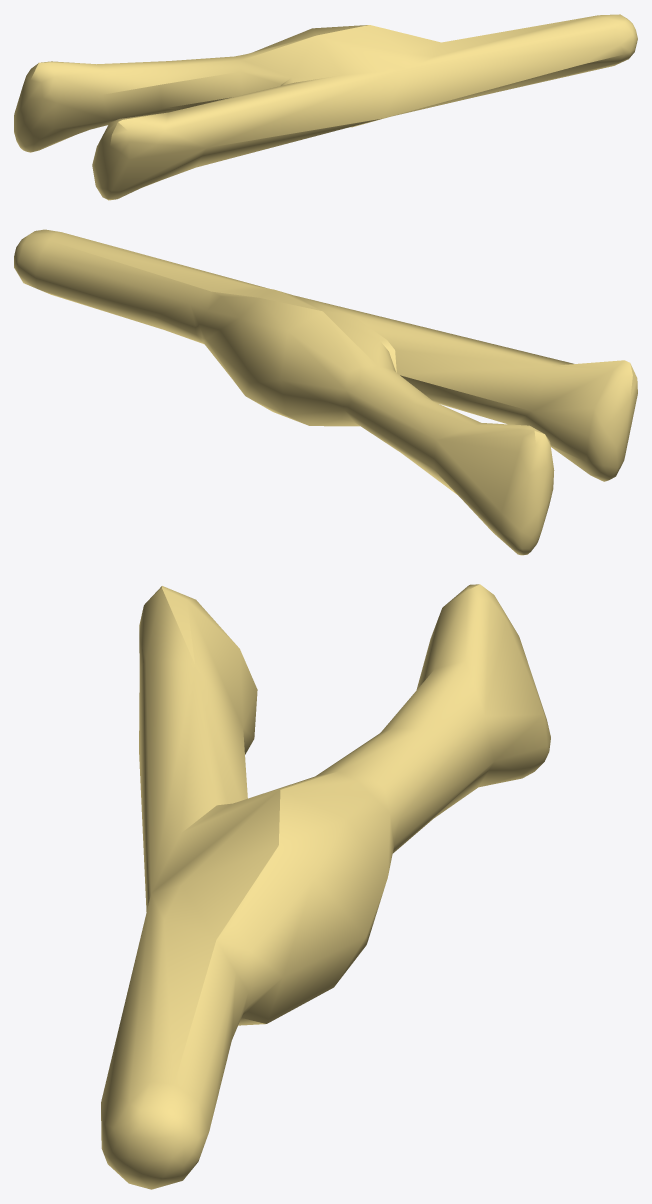
Rendered from fma7025_fj4248.glb.
3 views of the same model, one above another, from view 1: azimuth 30°, elevation 25°; view 2: azimuth 150°, elevation 25°; view 3: azimuth 270°, elevation 25° (orthographic). The views are drawn at different scales.
Parts seen in each view (by area): view 1: FMA7025_FJ4248; view 2: FMA7025_FJ4248; view 3: FMA7025_FJ4248.
Boxes of the visible parts, box(x1,y1,x2,y2) form: FMA7025_FJ4248: box(14, 14, 637, 200); FMA7025_FJ4248: box(14, 229, 637, 555); FMA7025_FJ4248: box(101, 584, 550, 1189).
Bounding box in the file's own units: 0.0223 × 0.0042 × 0.00822.
